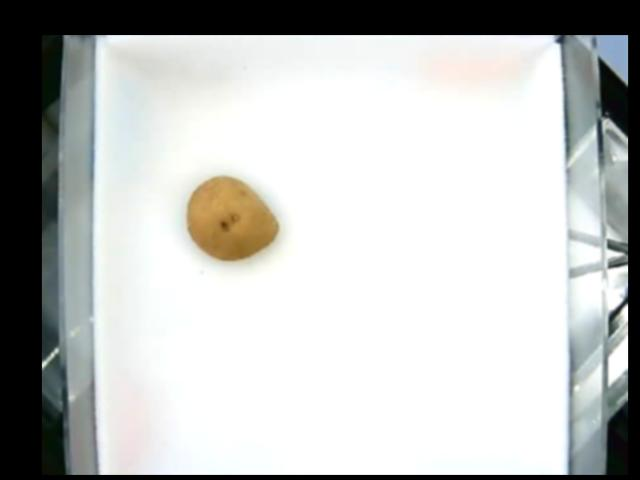Potato: (186, 176, 279, 260)
